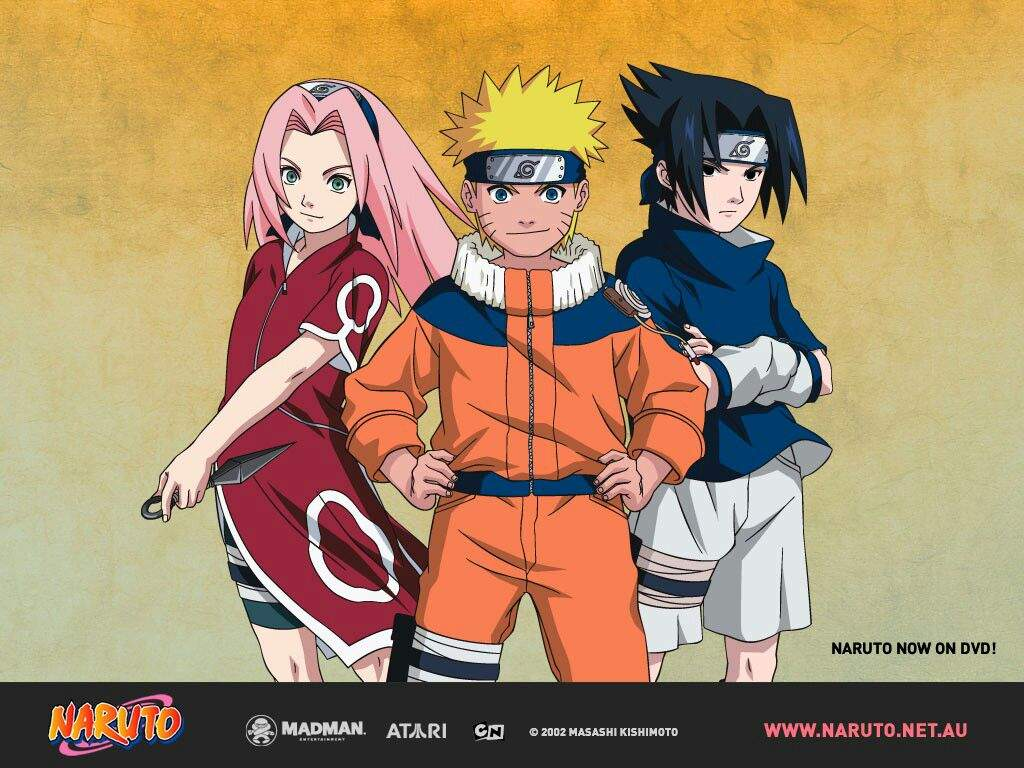naruto: (457, 143, 595, 261)
sakura: (259, 74, 377, 238)
sasuke: (651, 121, 785, 240)
